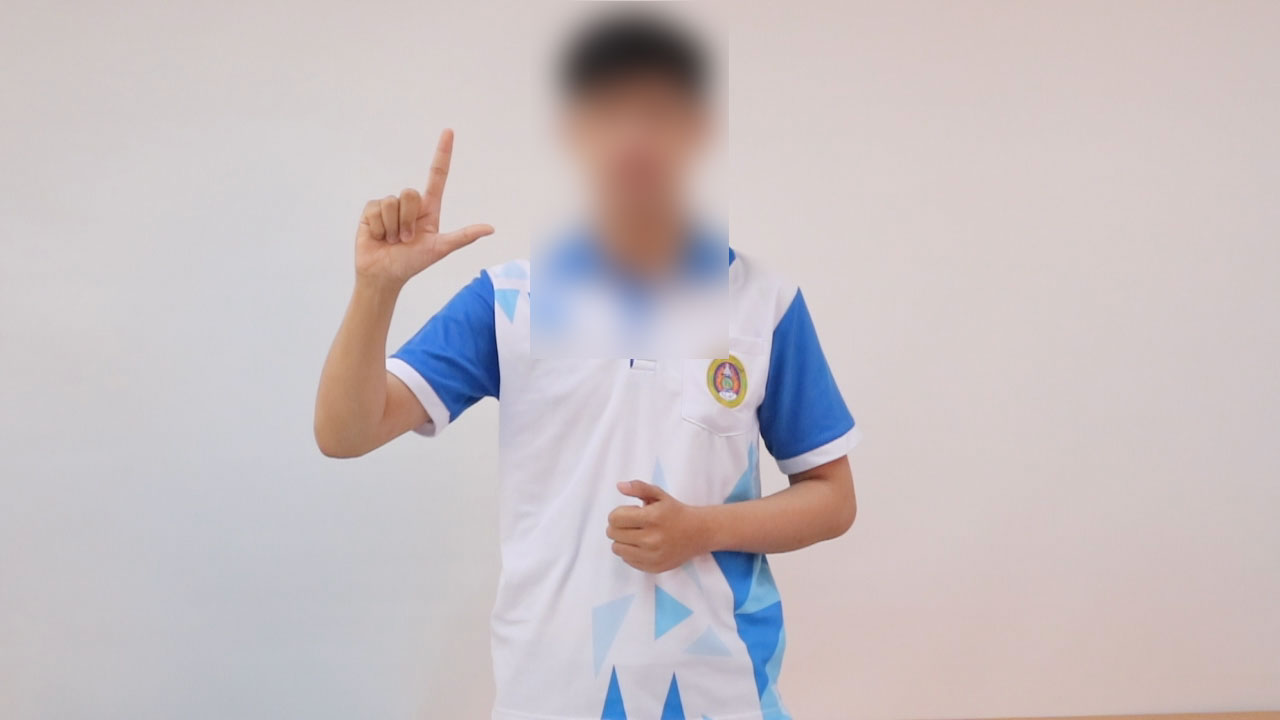lor: (301, 102, 516, 293)
